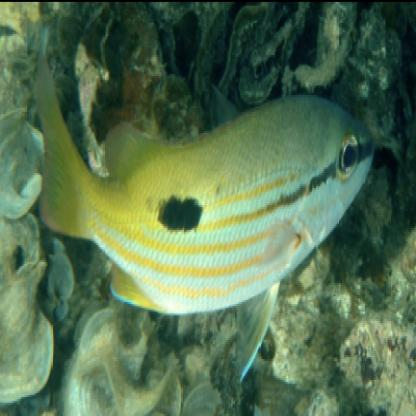snapper: (30, 41, 379, 385)
